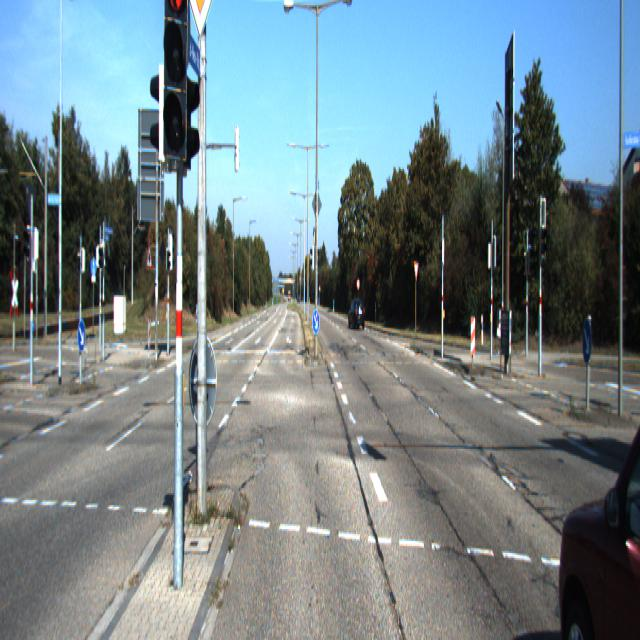Car: (551, 350, 639, 638), (348, 296, 366, 332)
